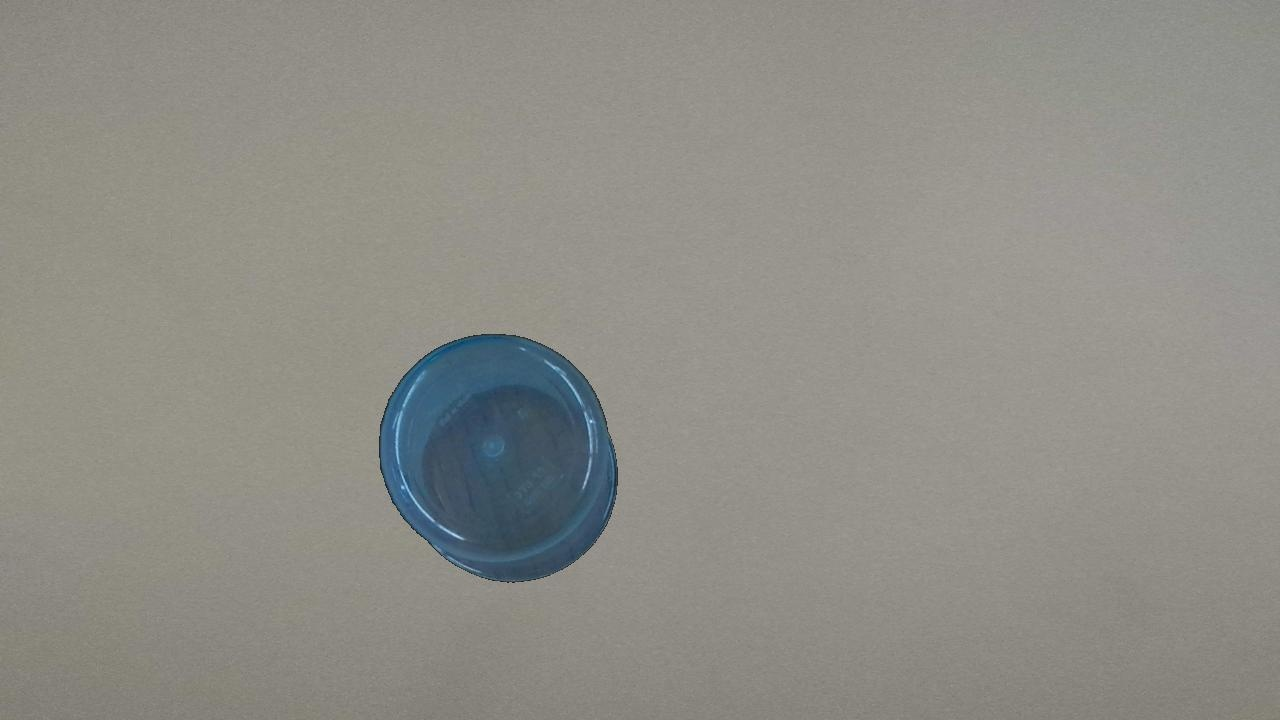cup: (376, 332, 618, 583)
